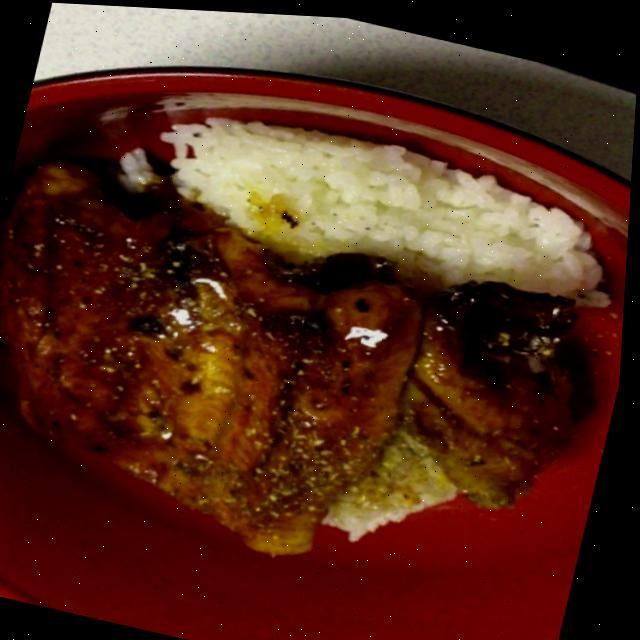汤锅炖物: (351, 251, 610, 595)
